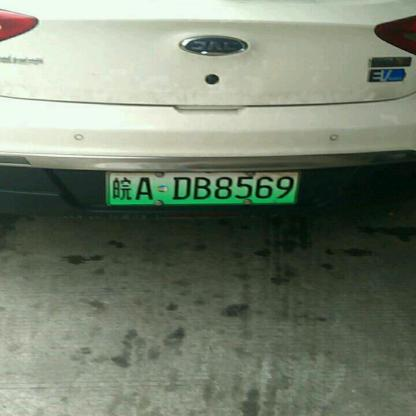lp: (107, 172, 300, 204)
